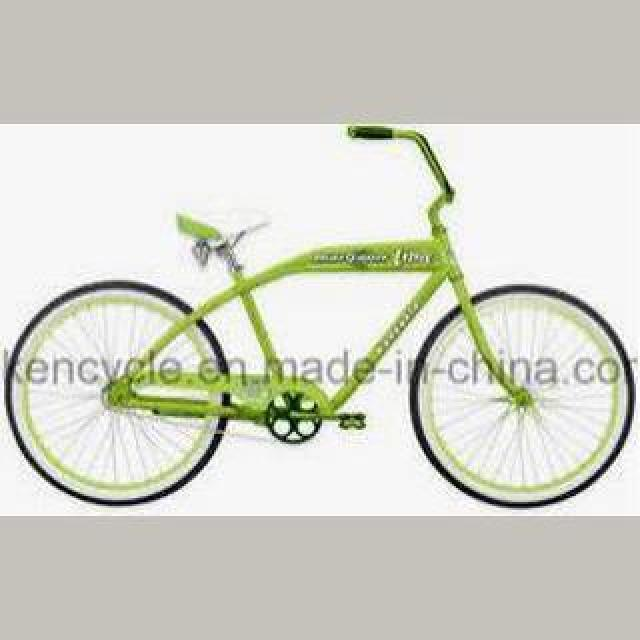Person: (2, 124, 636, 510)
